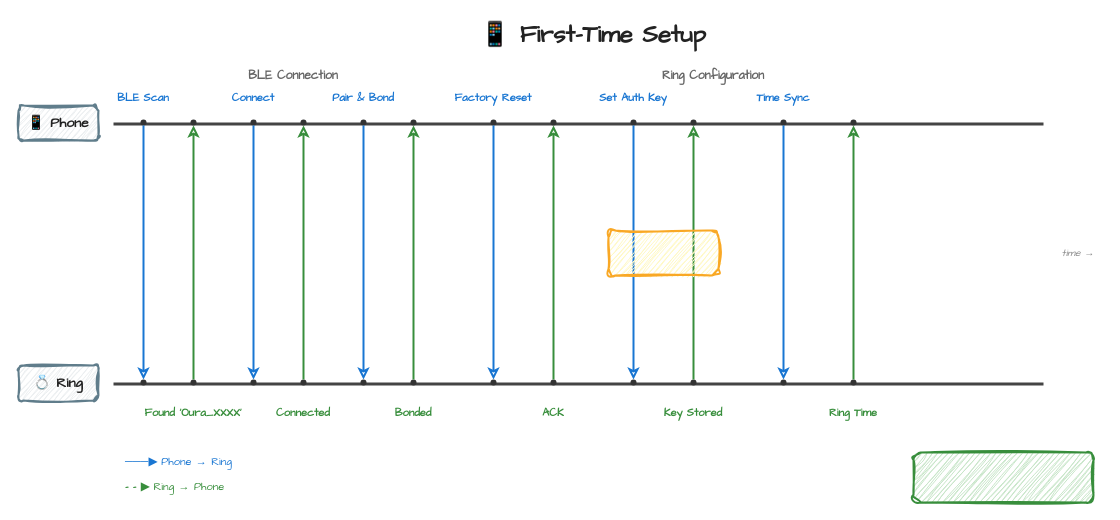
The diagram is 1120 pixels wide and 520 high, and some of its shapes have lost their labels. The shapes that lost their labels are listed below. From the top down, each one's centre as x and y in pixels, then its label:
At (x=663, y=252): "🔑 Generate Random AES-128 key".
At (x=1003, y=477): "✅ Ring Ready! Key stored on both sides".
